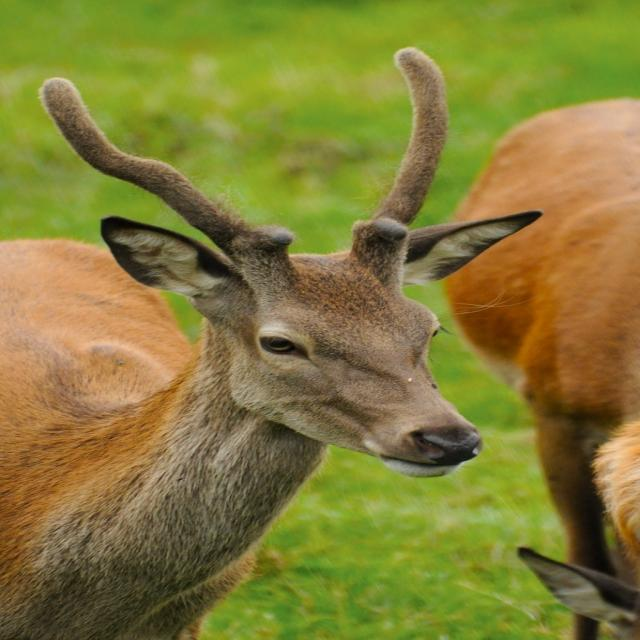Deer: (0, 46, 542, 640), (444, 96, 640, 640)
